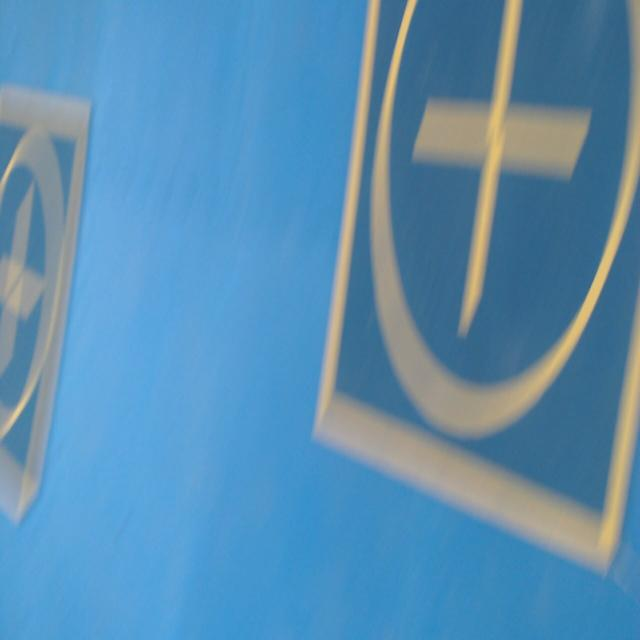base_pouso: (315, 0, 639, 572), (0, 93, 90, 492)
